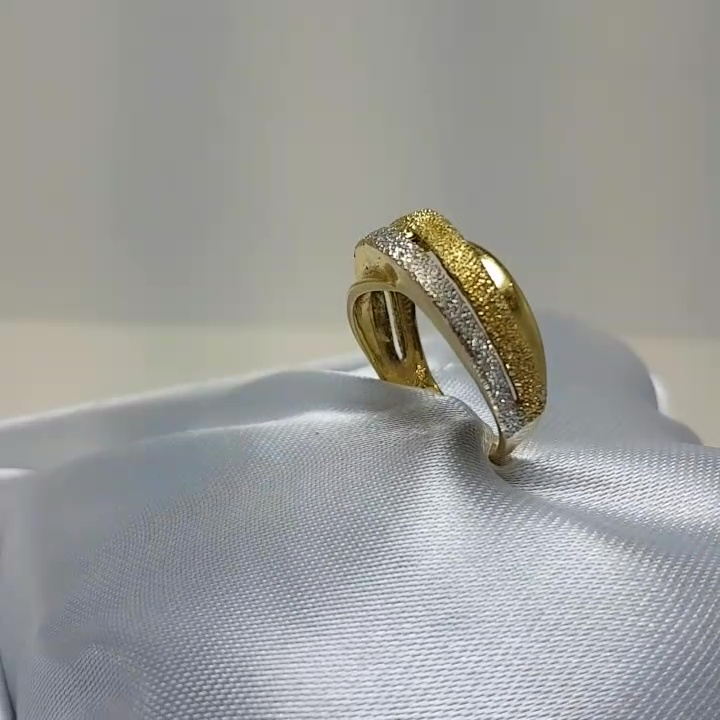Ring 5: (318, 204, 565, 453)
